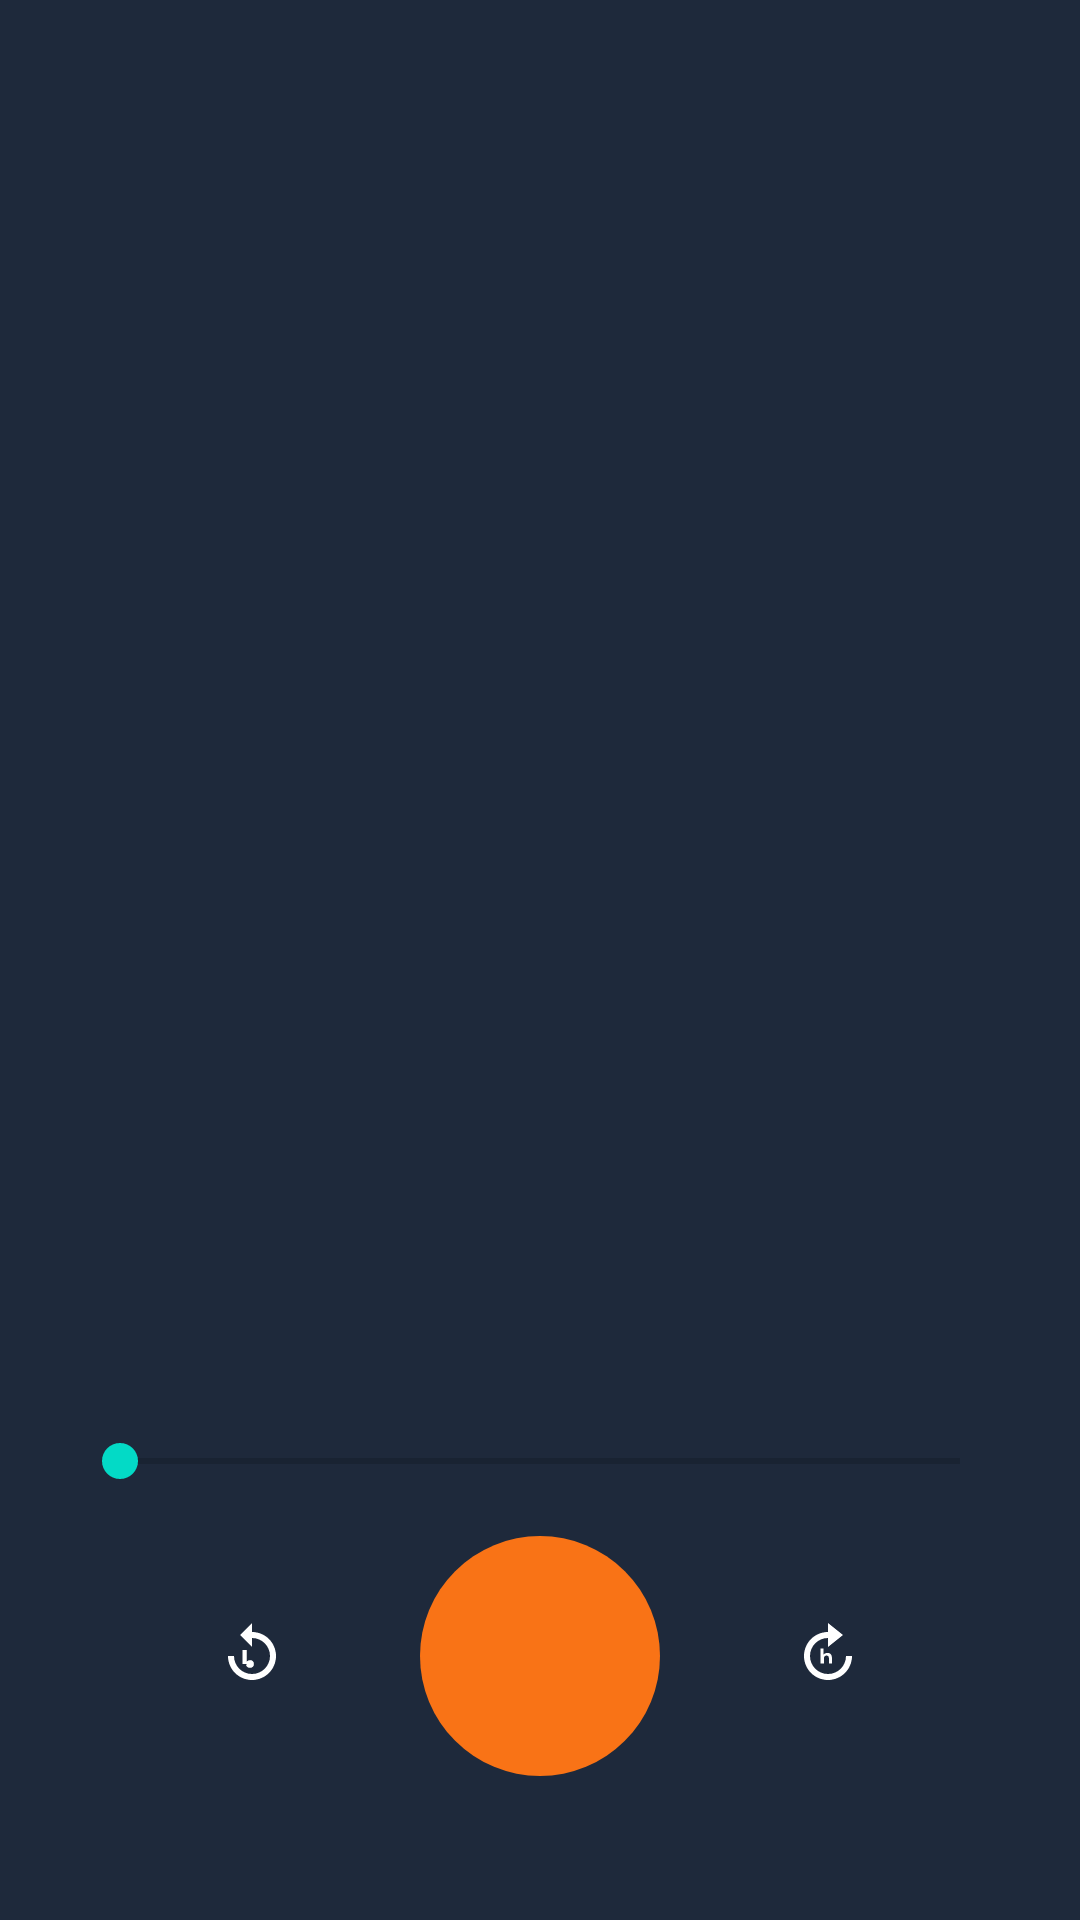

Icon click points for this 1080×1920 phone screenshot, format point (x, y):
forward: point (828, 1651)
replay: point (252, 1651)
